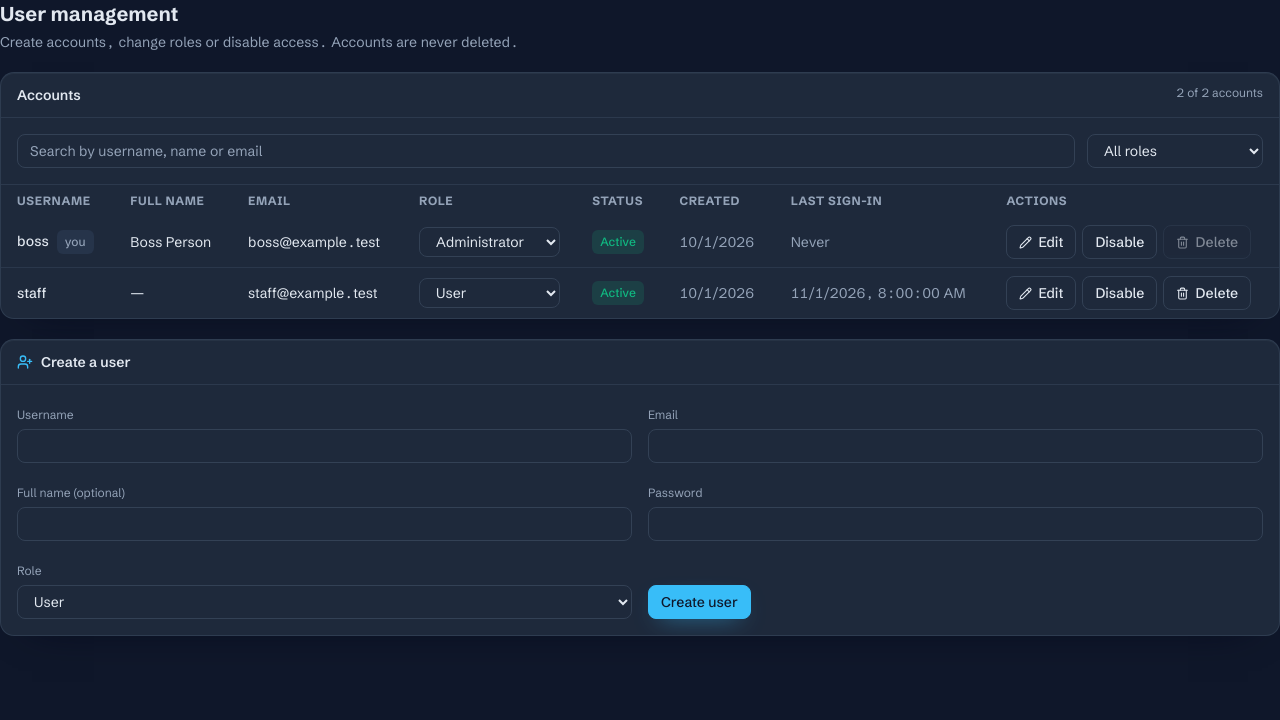
Test: Users page (admin): edit › Cancel closes the dialog without a request
Click the button "Edit" in the row of "staff@example.test" at (1041, 293), box 1006,276 -> 1076,310
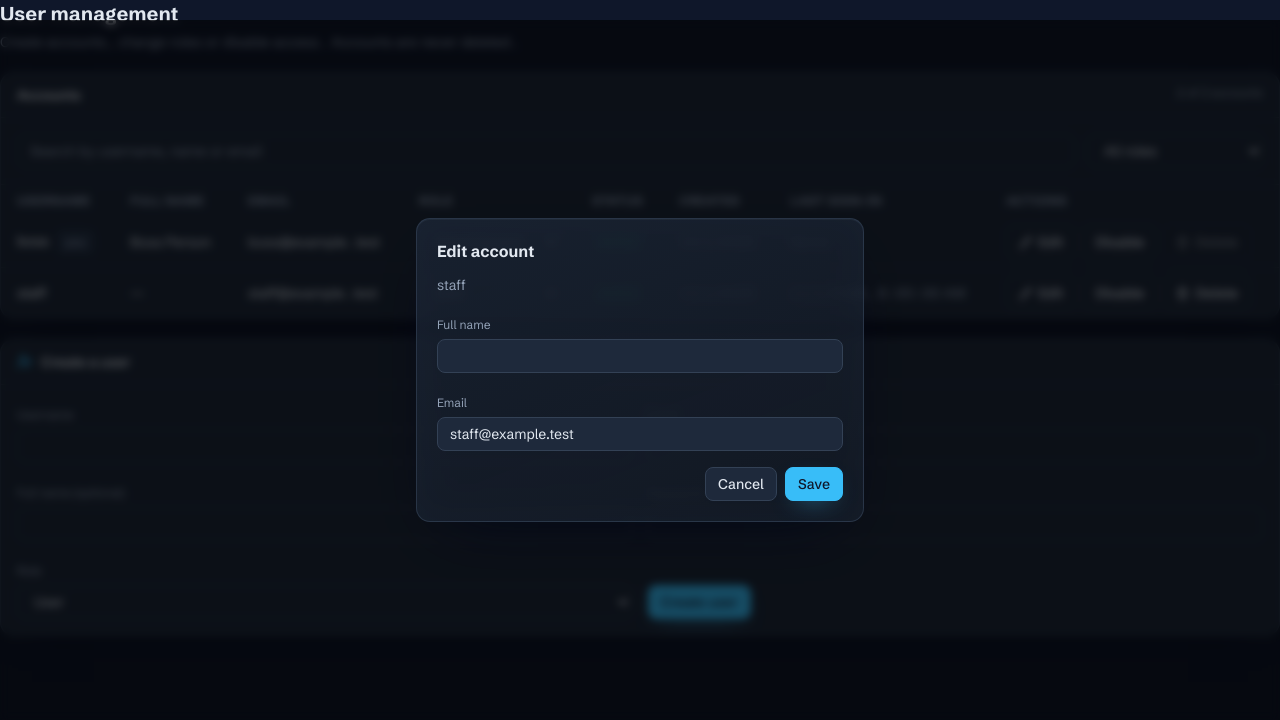
Click the button "Cancel" at (741, 484), box 705,467 -> 777,501
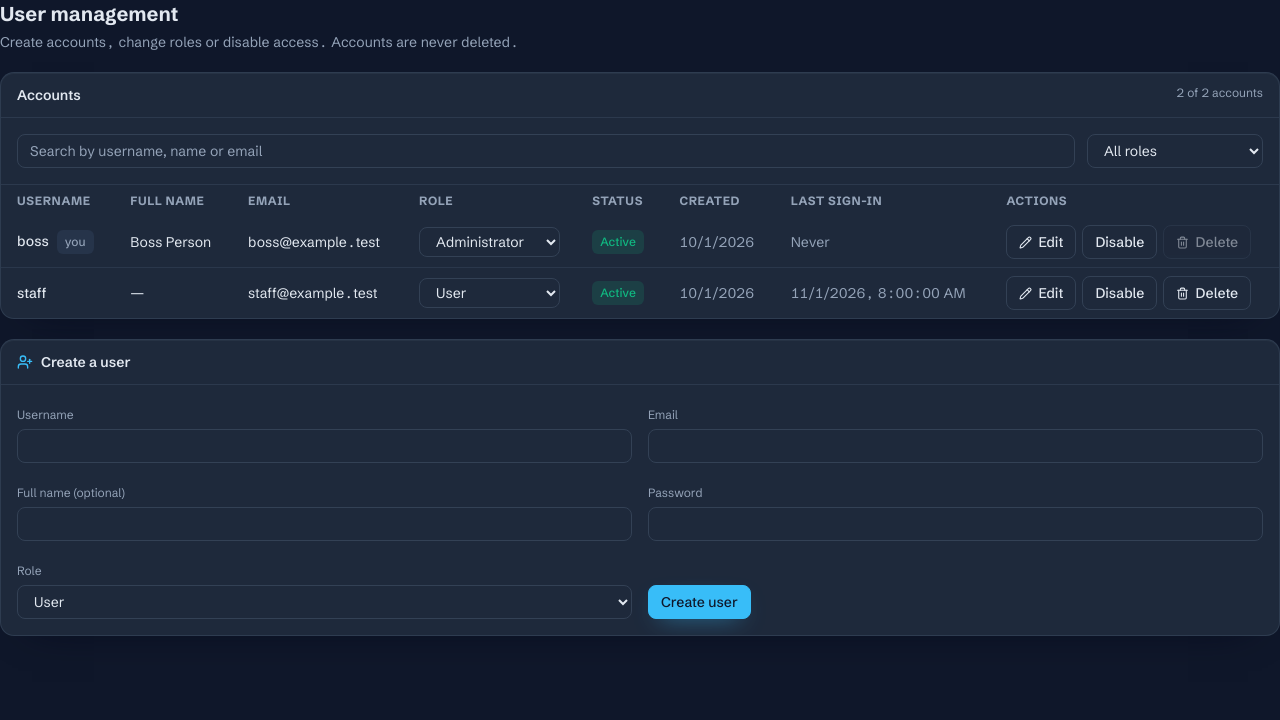
Expected: the dialog is gone
